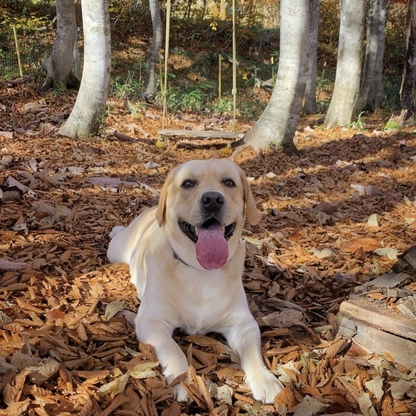labrado: (103, 154, 291, 408)
